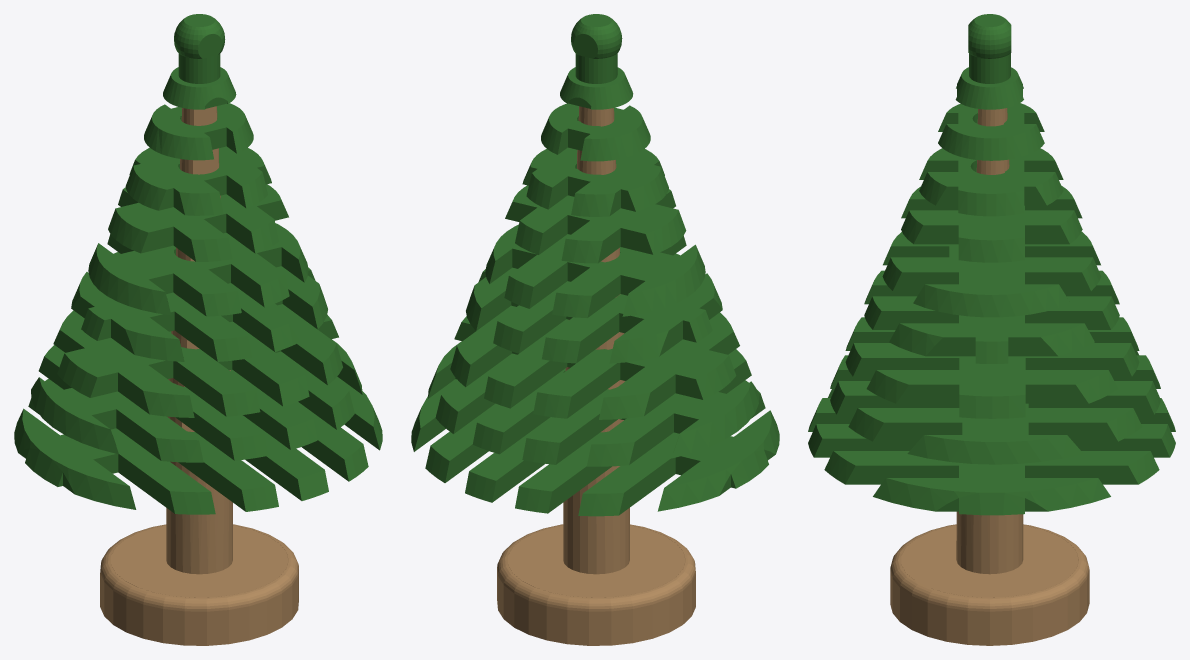
Rendered from tree.glb.
3 renders of one model, left to right at view 1: azimuth 30°, elevation 25°; view 2: azimuth 150°, elevation 25°; view 3: azimuth 270°, elevation 25°, orthographic.
Parts seen in each view (by area): view 1: leaf_tree, root_tree; view 2: leaf_tree, root_tree; view 3: leaf_tree, root_tree.
Part boxes in pixels (x1,y1,x2,y2): leaf_tree: (14,14,382,514); root_tree: (100,106,298,645); leaf_tree: (411,14,779,516); root_tree: (497,106,695,645); leaf_tree: (808,14,1175,515); root_tree: (890,108,1089,645).
Bounding box in the file's own units: 0.4661 × 0.8147 × 0.4658.
